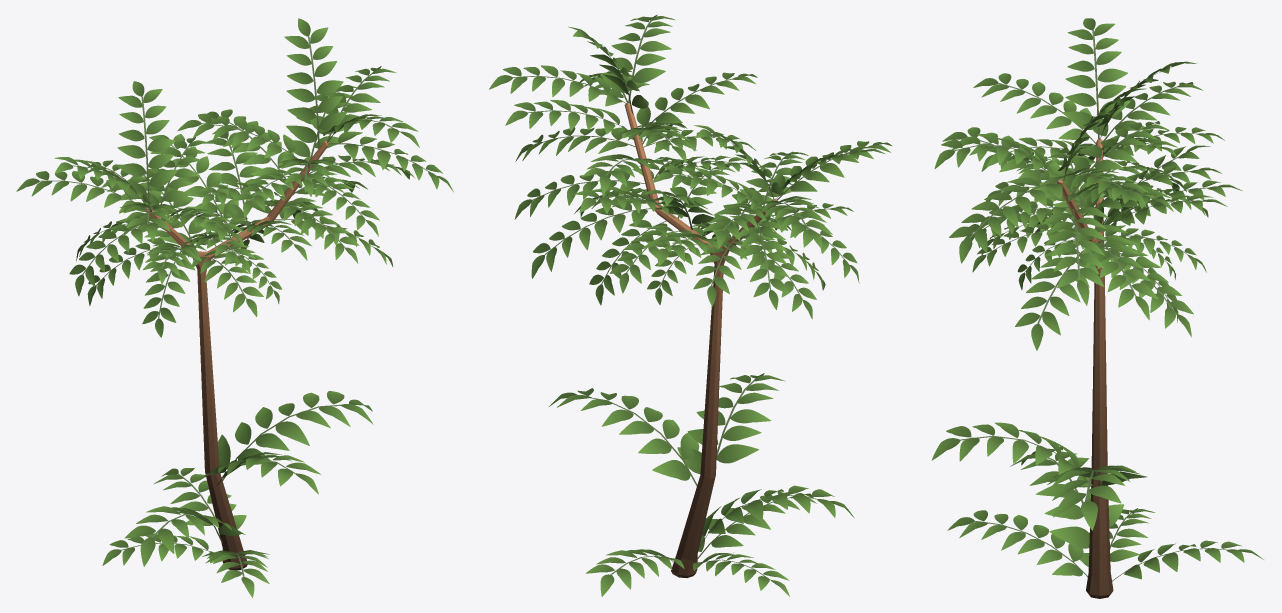
Rendered from Plant_10.fbx.
3 renders of one model, left to right at view 1: azimuth 30°, elevation 25°; view 2: azimuth 150°, elevation 25°; view 3: azimuth 270°, elevation 25°, orthographic. The views are drawn at different scales.
Visible parts, largest first — view 1: Plant_10_LOD0; view 2: Plant_10_LOD0; view 3: Plant_10_LOD0.
Boxes of the visible parts, <box> form: Plant_10_LOD0: <box>16,18,453,597</box>; Plant_10_LOD0: <box>489,14,891,596</box>; Plant_10_LOD0: <box>931,18,1263,598</box>.
Size of what is drawn, in the model's own units: 0.9354 by 1.28 by 0.7124.
